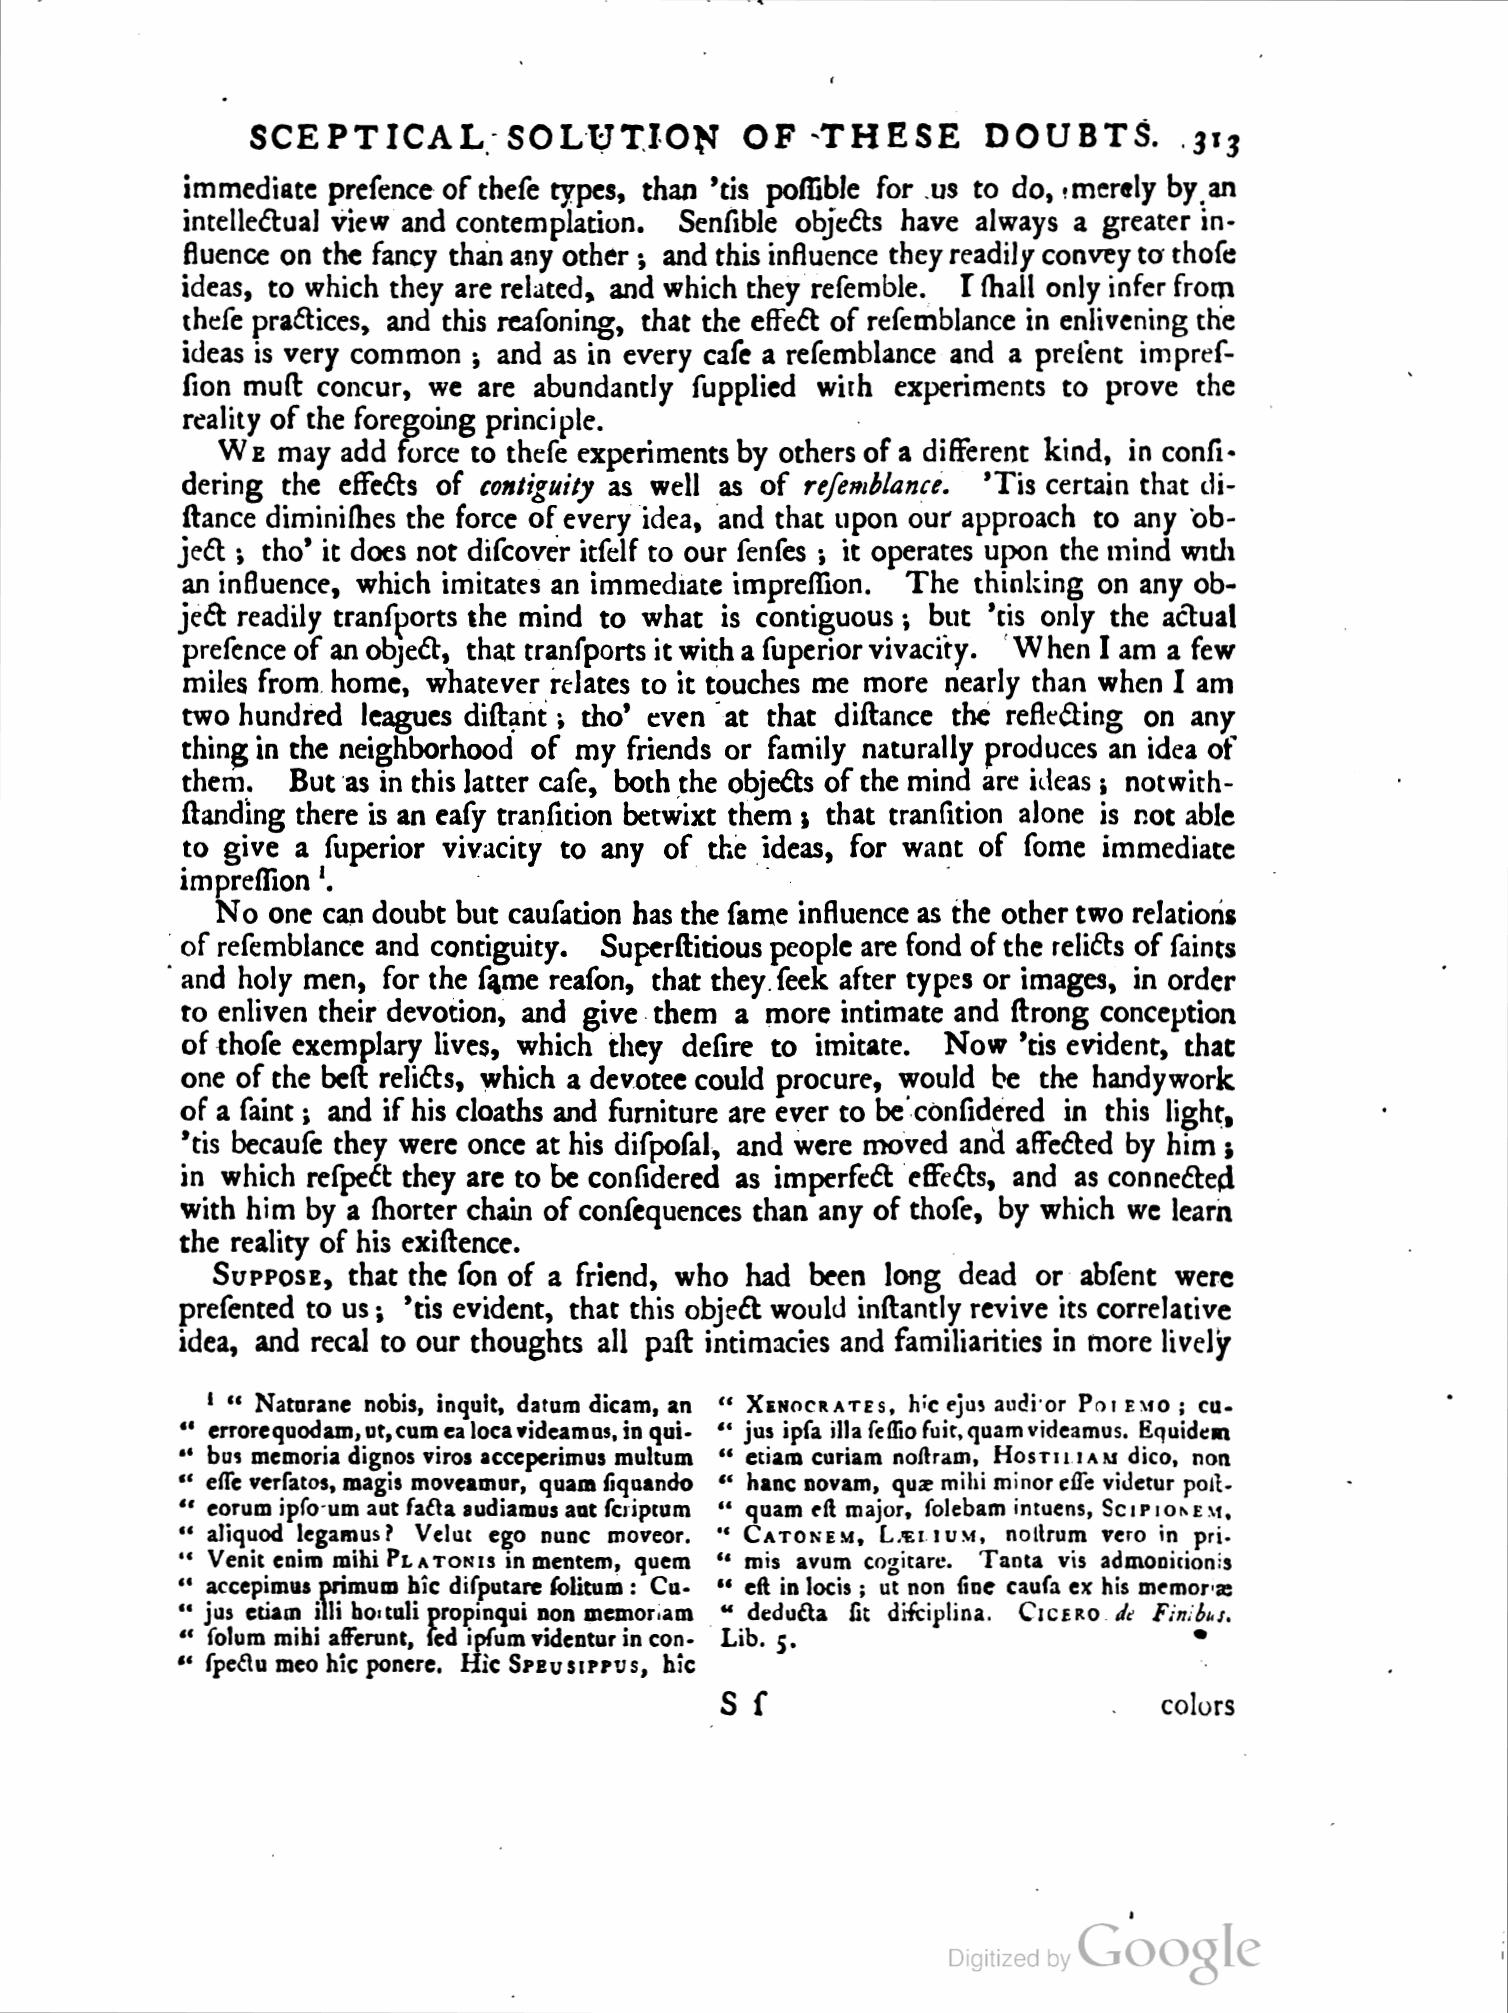bottom_p: (177, 168, 1240, 437)
footnotes: (169, 1384, 702, 1680), (713, 1387, 1240, 1663)
full_p: (174, 437, 1242, 895), (174, 895, 1240, 1258)
header: (246, 109, 1167, 160)
page_num: (1190, 120, 1245, 163)
signature: (714, 1680, 773, 1720), (1158, 1695, 1236, 1720)
top_p: (177, 1254, 1240, 1365)
